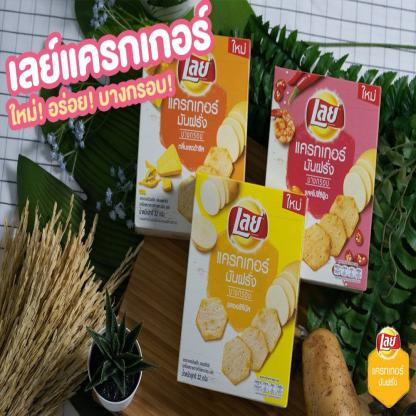potatochip: (177, 171, 308, 411), (257, 64, 382, 294), (133, 30, 251, 246)
